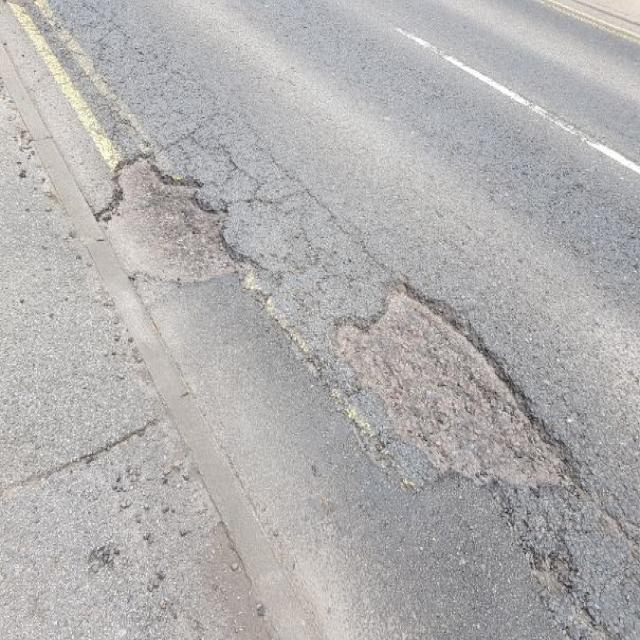pothole: (327, 274, 587, 498), (90, 145, 264, 285)
